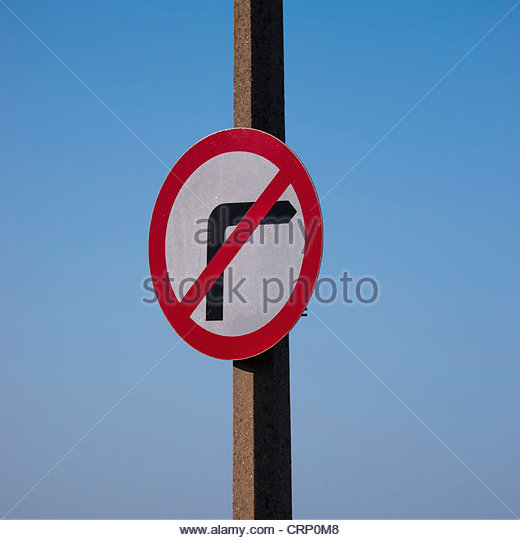No_right_turn: (146, 127, 324, 361)
